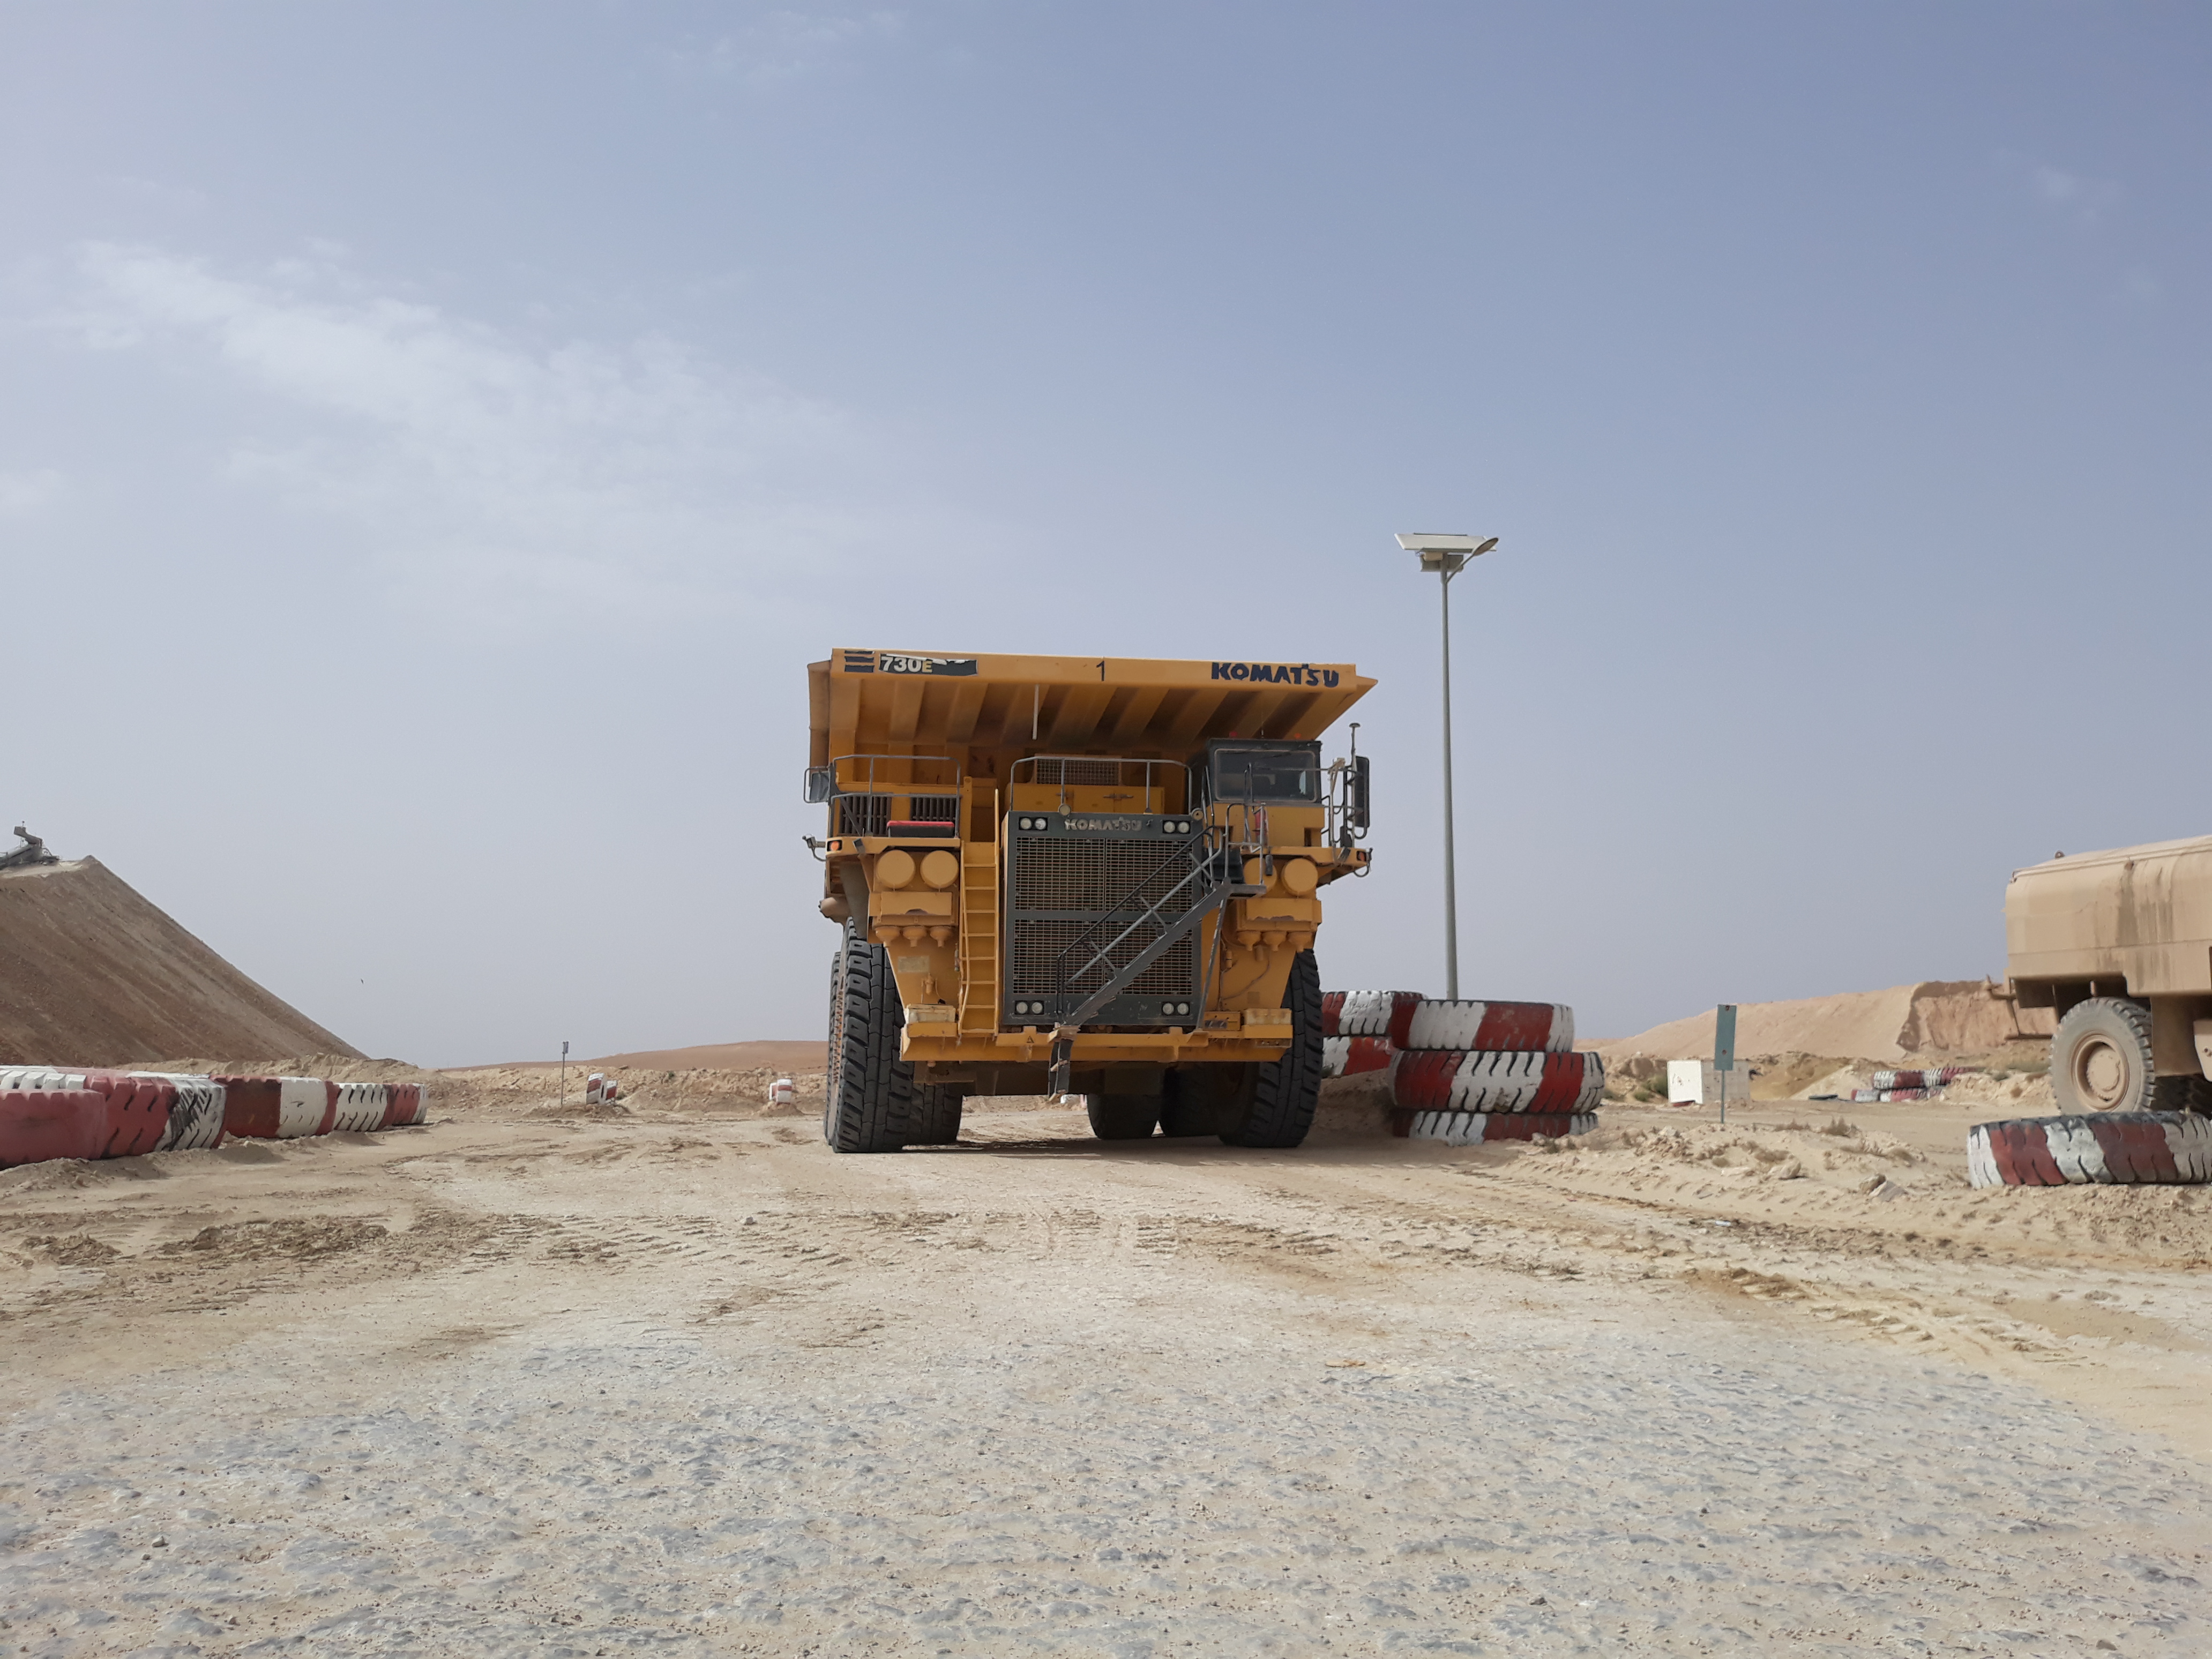camion: (716, 613, 1437, 1199)
